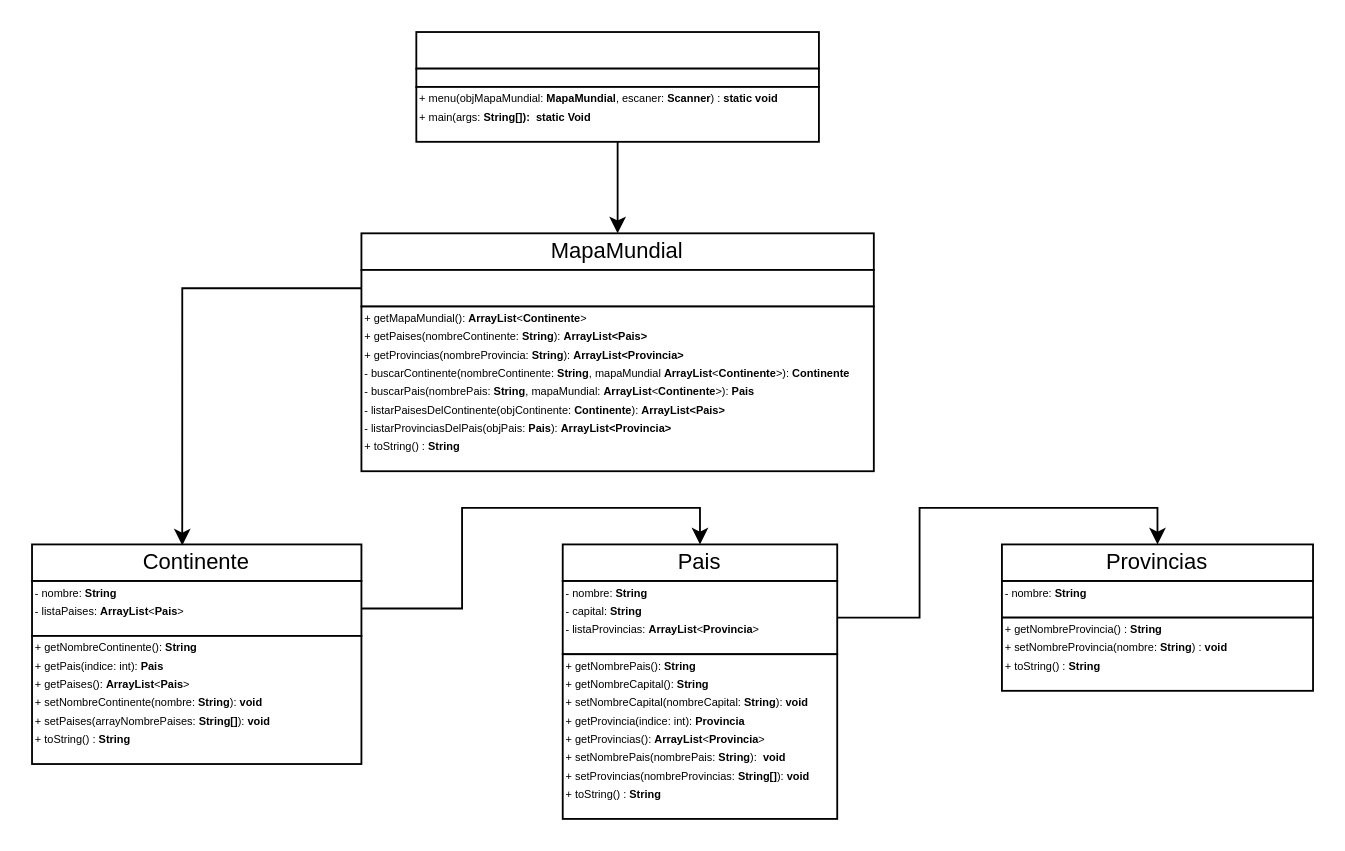
The diagram is 1345 pixels wide and 851 high, and some of its shapes have lost their labels. Here are the shapes that lost their labels. From the top down, the centre of each, then its label:
At point 616,49: "MapaMundi".
At point 617,287: "- mapaMundial: ArrayList < Continente >".
